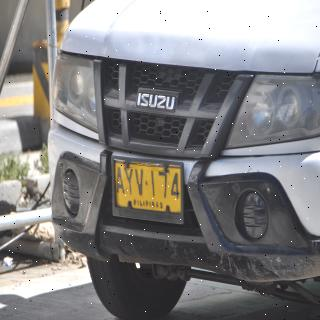license: (114, 157, 185, 225)
